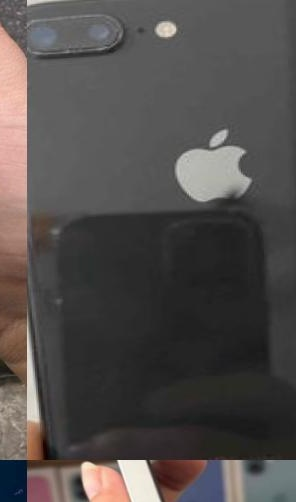scratch: (27, 7, 133, 61), (205, 182, 251, 207), (0, 460, 27, 502), (38, 288, 67, 313), (42, 223, 64, 243)
